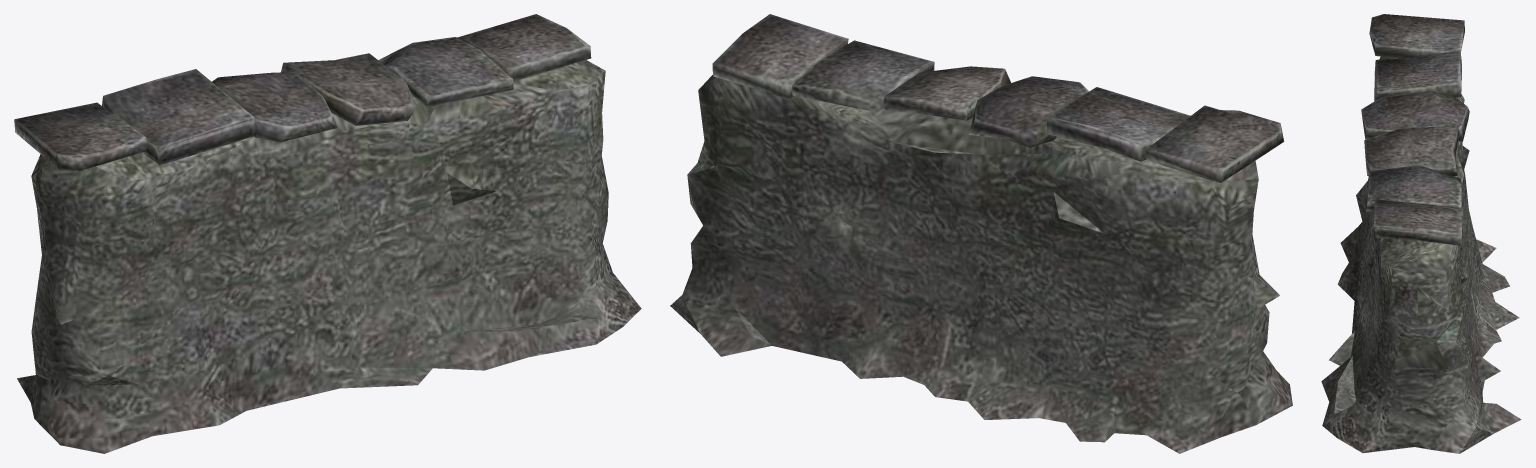
Rendered from mesh_Side.fbx.
The picture shows the model from 3 angles, left to right: view 1: azimuth 30°, elevation 25°; view 2: azimuth 150°, elevation 25°; view 3: azimuth 270°, elevation 25°; orthographic projection. The views are drawn at different scales.
Visible parts, largest first — view 1: Side; view 2: Side; view 3: Side.
Part boxes in pixels (x1,y1,x2,y2): Side: [14, 14, 641, 453]; Side: [670, 14, 1292, 453]; Side: [1321, 14, 1521, 453].
Size of the model in its own units: 213 by 103 by 81.91.
Materials: 1 (1 with a texture image).
